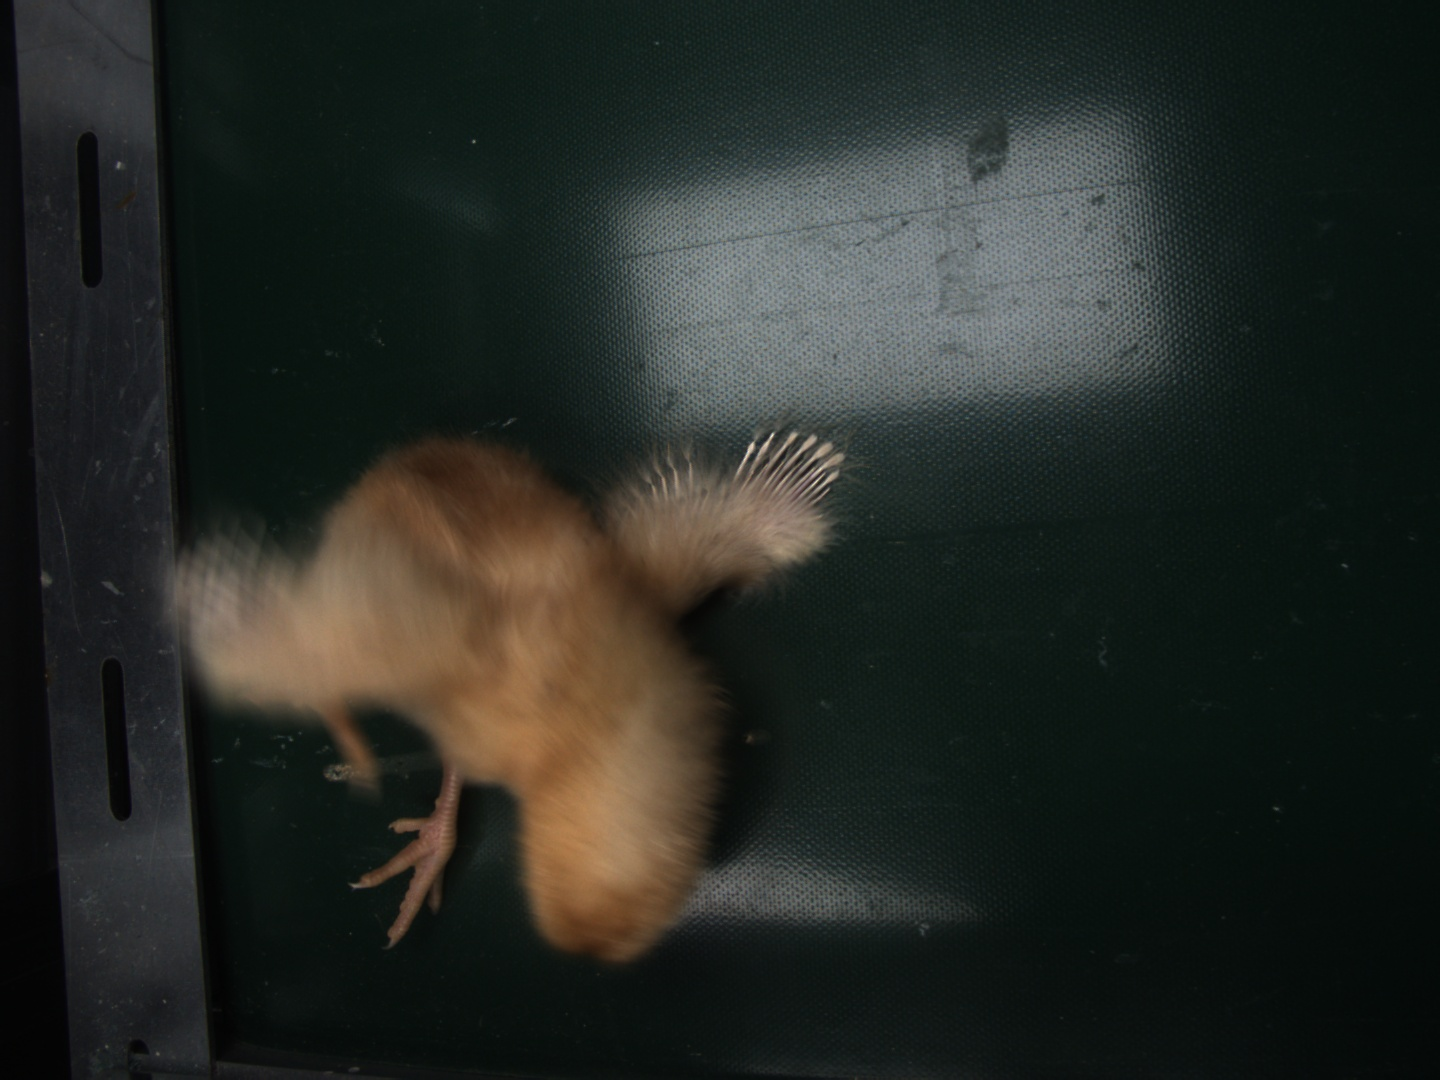female: (729, 431, 840, 512)
